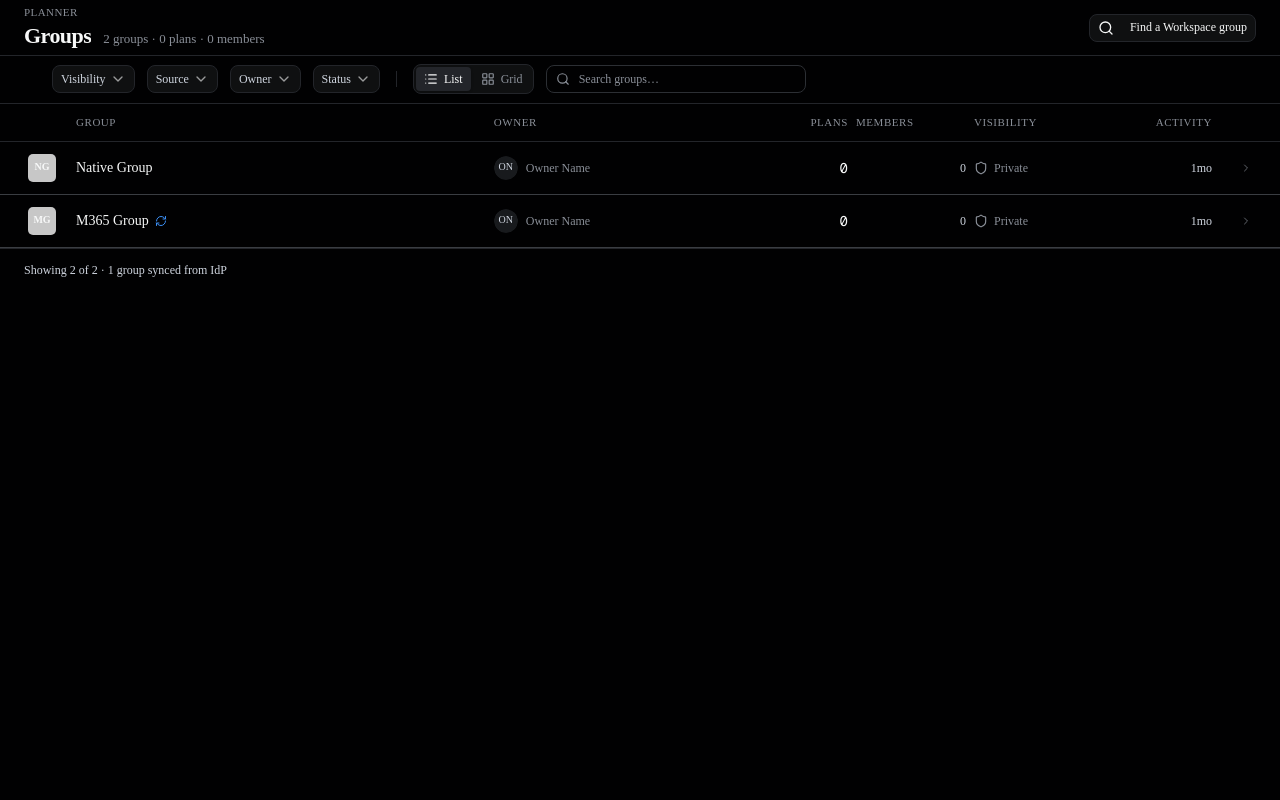
Scenario: GroupsPage › source filter "M365" shows only m365 groups
The width and height of the screenshot is (1280, 800).
Check: the link "Native Group" is shown, box [0,142,1279,194]
Click the button "Source" at [182, 79], box [147,65,218,93]
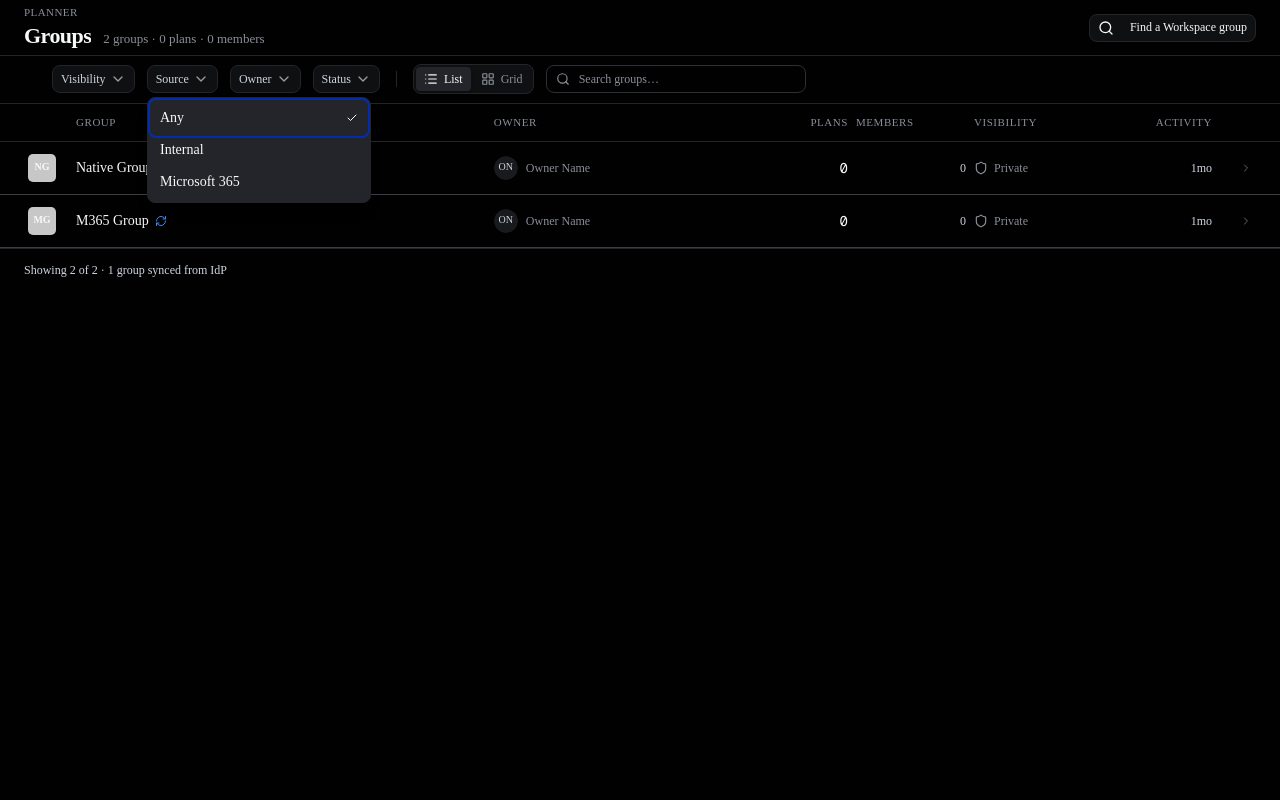
Click the button "Microsoft 365" at [259, 182], box [152,166,366,198]
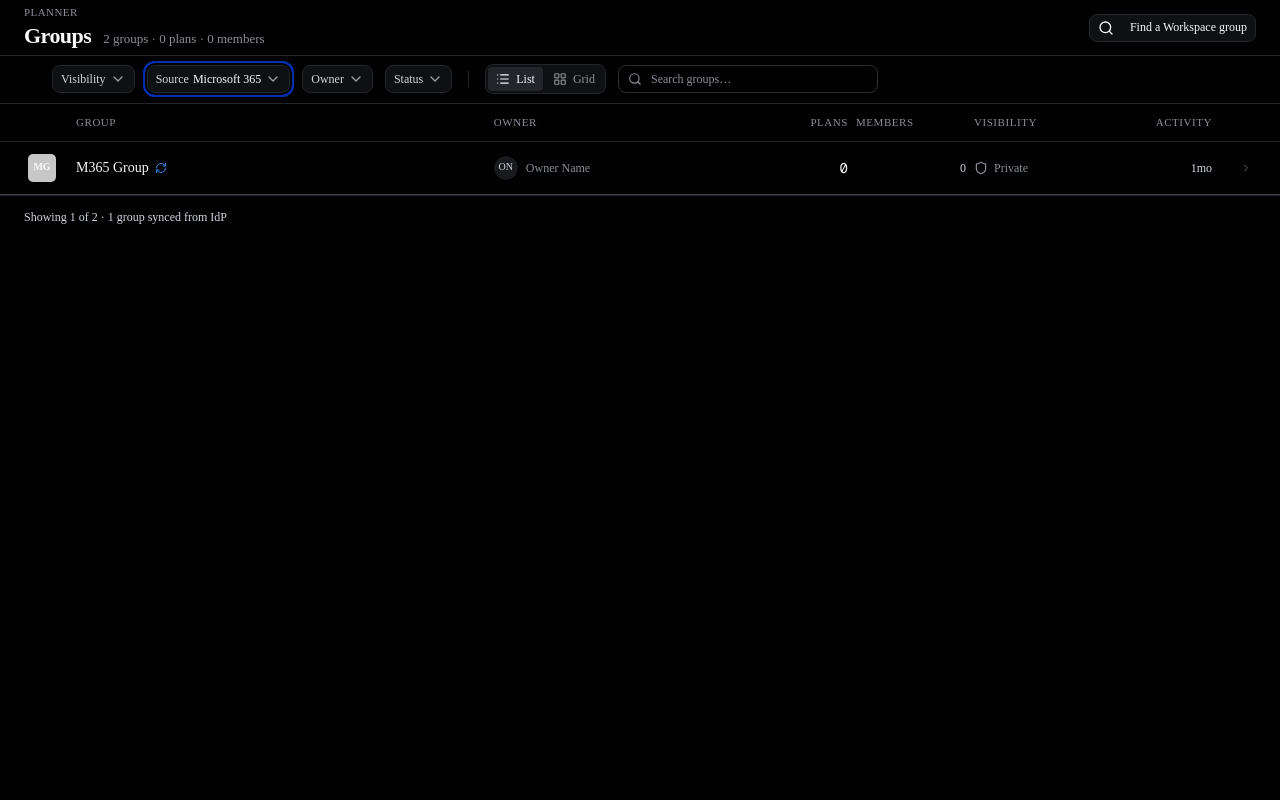
Check: the text "M365 Group" is shown, box [76,160,167,174]
Check: the link "Native Group" is gone
